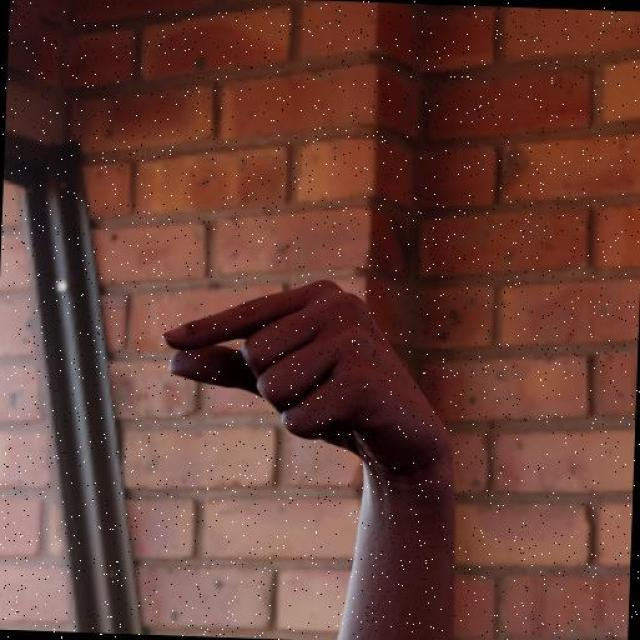Q: (154, 268, 467, 498)
